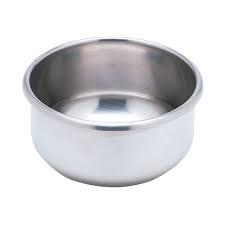Sponge Bowl: (24, 32, 201, 186)
